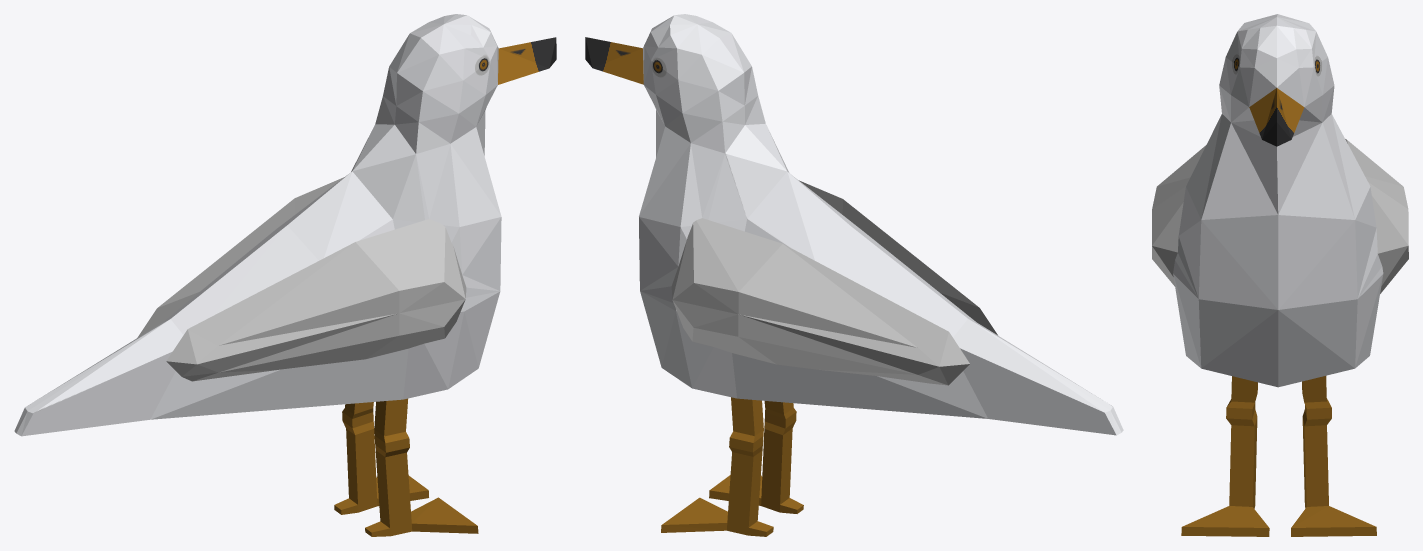
File: Seagull.glb
3 views of the same model, side by side, from view 1: azimuth 30°, elevation 25°; view 2: azimuth 150°, elevation 25°; view 3: azimuth 270°, elevation 25° (orthographic). The views are drawn at different scales.
Visible parts, largest first — view 1: Gull; view 2: Gull; view 3: Gull.
Boxes of the visible parts, x1=… form: Gull: x1=14, y1=14, x2=556, y2=536; Gull: x1=585, y1=14, x2=1123, y2=536; Gull: x1=1152, y1=14, x2=1408, y2=536.
Size of the model in its own units: 65.38 by 55.97 by 24.5.
1 material, 1 textured.
